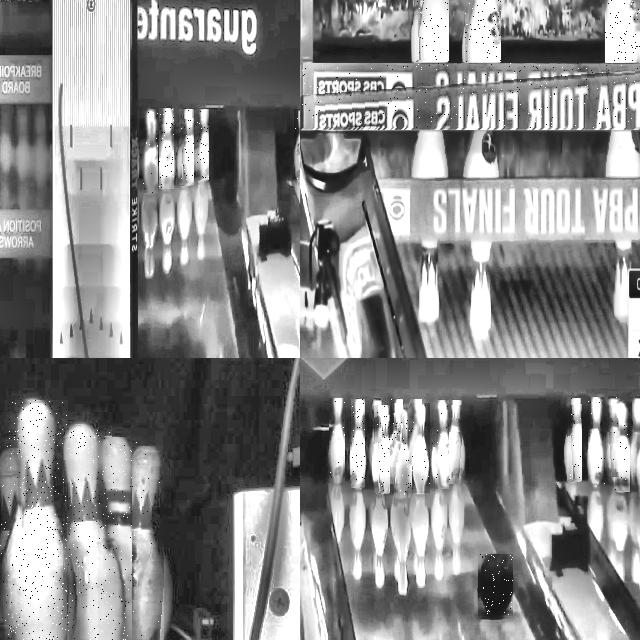bowling-ball: (480, 555, 513, 615)
bowling-pins: (7, 401, 67, 640), (63, 425, 112, 640), (100, 437, 141, 640), (132, 446, 164, 640), (0, 448, 19, 571), (465, 0, 501, 62), (605, 0, 640, 61), (417, 0, 448, 60), (412, 404, 430, 492), (588, 398, 605, 486), (396, 410, 412, 497), (615, 402, 630, 491), (329, 398, 345, 480), (142, 109, 157, 193), (352, 399, 365, 486), (159, 108, 173, 188), (436, 400, 448, 489), (449, 400, 462, 482), (377, 405, 389, 492), (181, 110, 194, 183), (570, 398, 581, 480), (609, 398, 620, 477), (197, 110, 209, 179), (391, 399, 403, 460), (410, 399, 421, 465), (294, 111, 300, 180)
sweep board: (302, 72, 640, 128)
